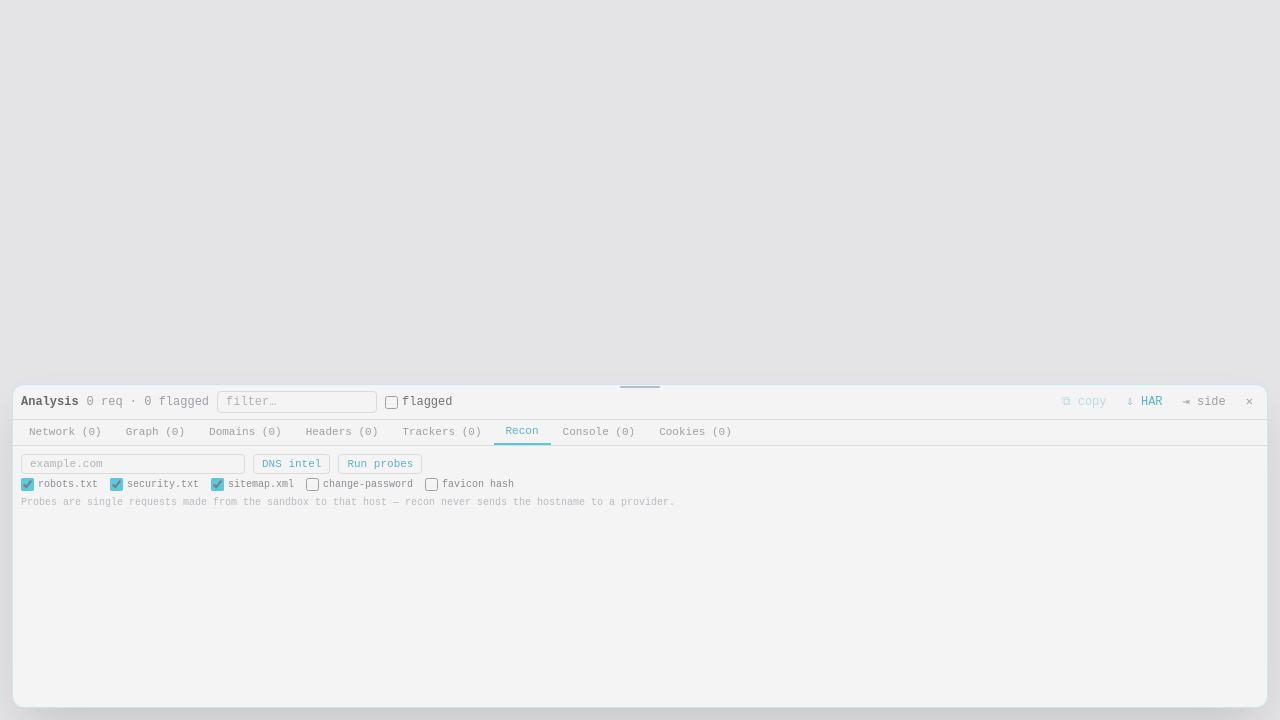
Test: IsolaNetworkPanel recon tab › runs the selected probes through the injected fetcher
Click the button titled "Run the selected probes" at (380, 464), box [338, 454, 422, 474]
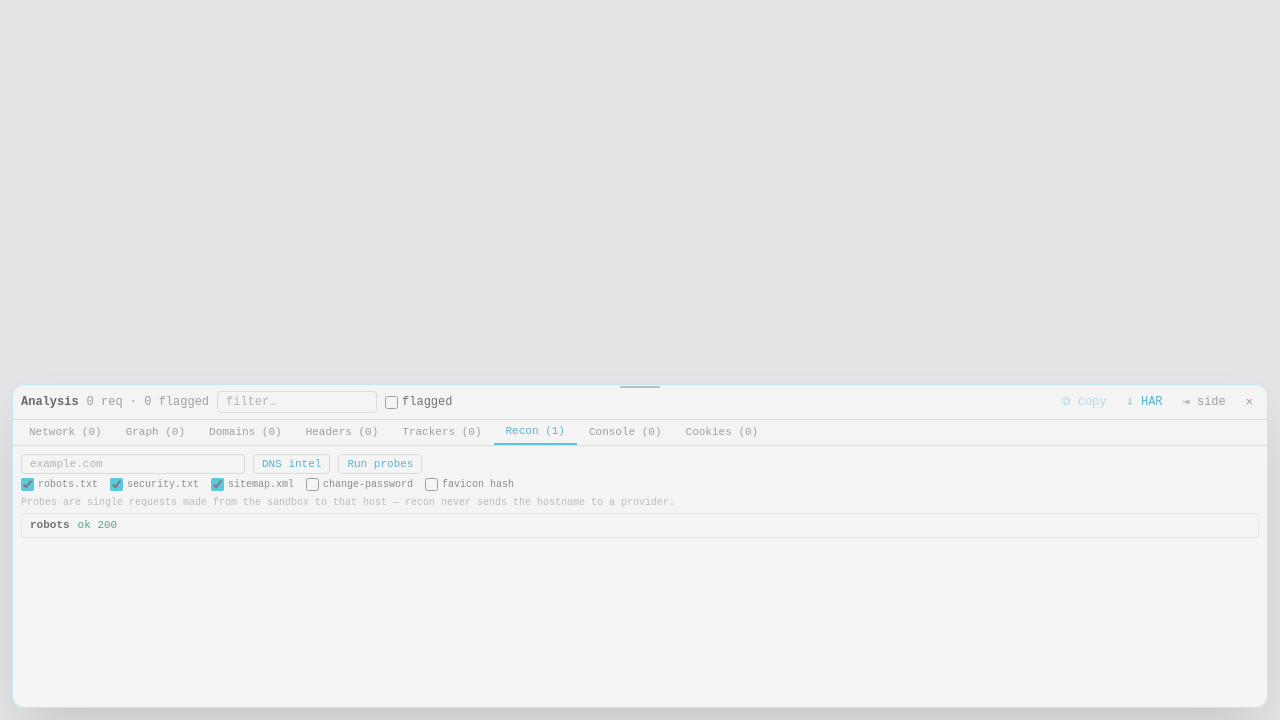
Now the text "robots" is shown, box [30, 518, 70, 533]
